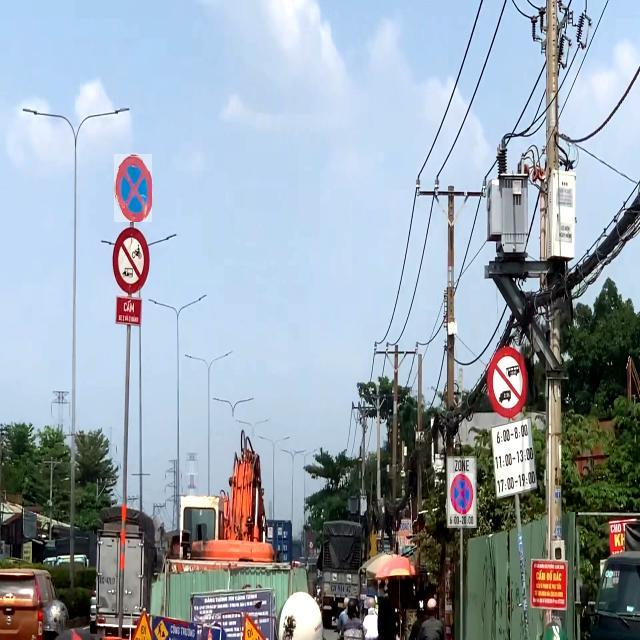P-130: (115, 154, 153, 222), (450, 473, 473, 514)
